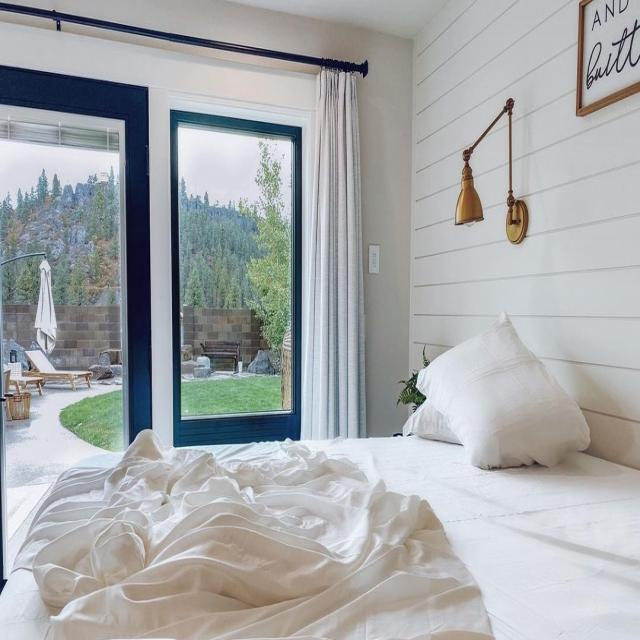bed: (52, 414, 640, 640)
